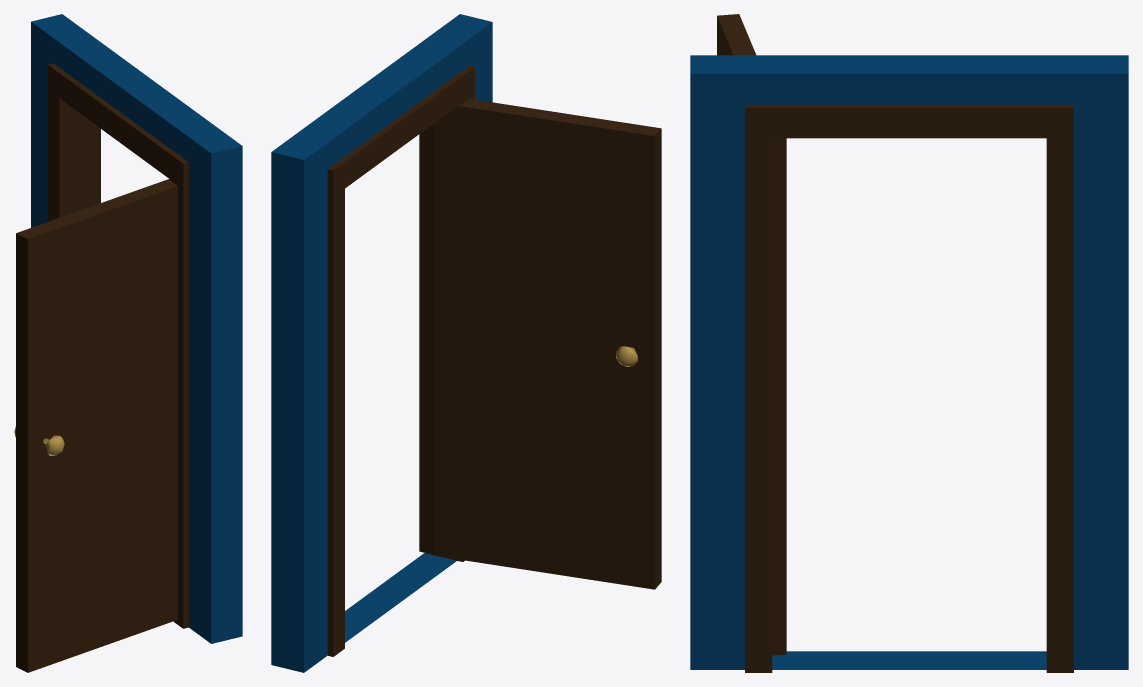
The model's file is Door.fbx.
3 views of the same model, side by side, from view 1: azimuth 30°, elevation 25°; view 2: azimuth 150°, elevation 25°; view 3: azimuth 270°, elevation 25° (orthographic). The views are drawn at different scales.
Visible parts, largest first — view 1: Door, WallDoor; view 2: Door, WallDoor; view 3: WallDoor, Door.
Boxes of the visible parts, left/top/right/bottom form: Door: left=14, top=179, right=177, bottom=672; WallDoor: left=31, top=14, right=242, bottom=643; Door: left=434, top=99, right=661, bottom=589; WallDoor: left=271, top=14, right=492, bottom=672; WallDoor: left=690, top=55, right=1128, bottom=672; Door: left=717, top=14, right=786, bottom=655.
Size of the model in its own units: 135 by 300 by 200.
